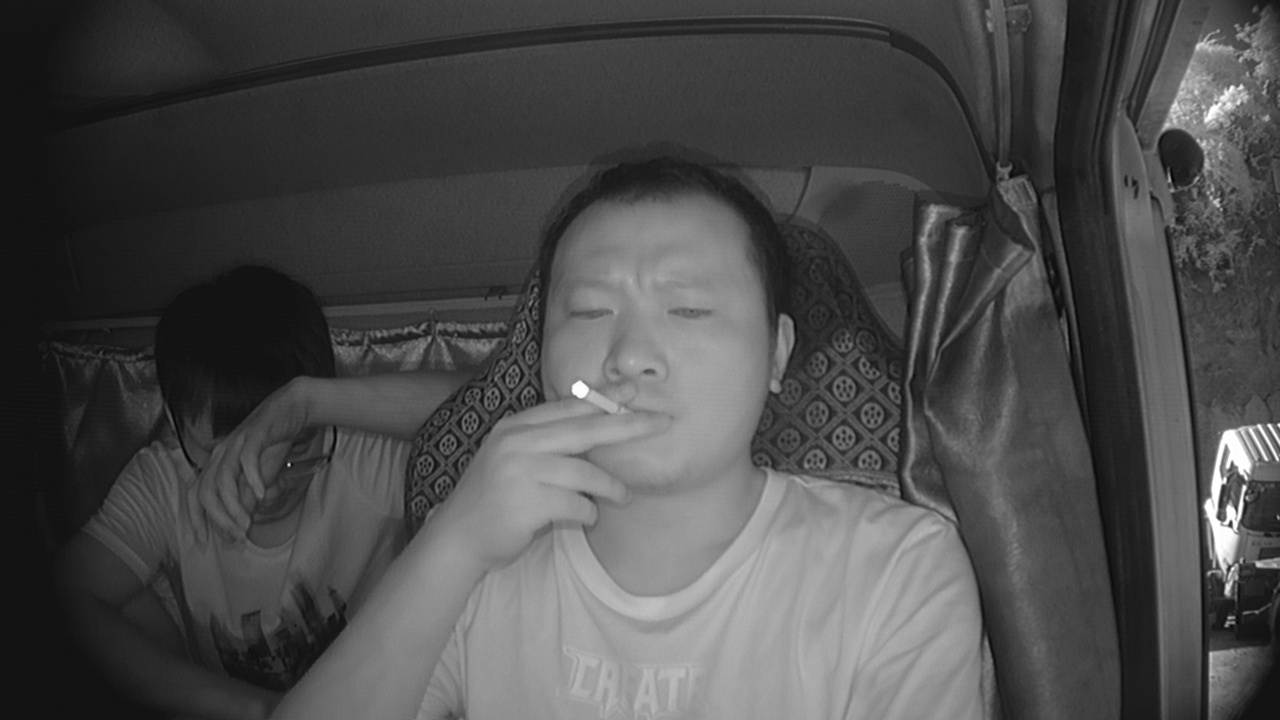hand: (475, 378, 671, 560)
